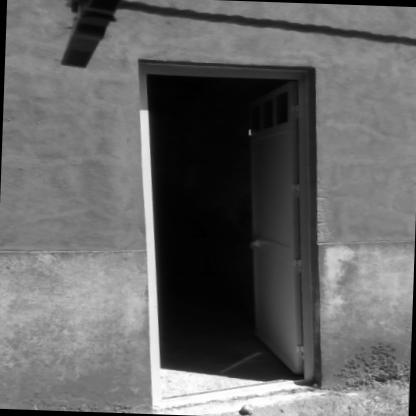open: (107, 44, 334, 395)
